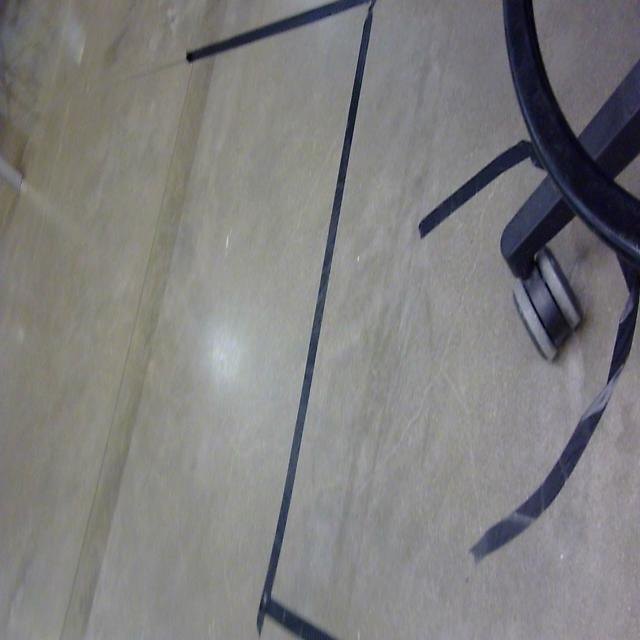tape: (158, 0, 394, 640), (404, 111, 640, 591)
